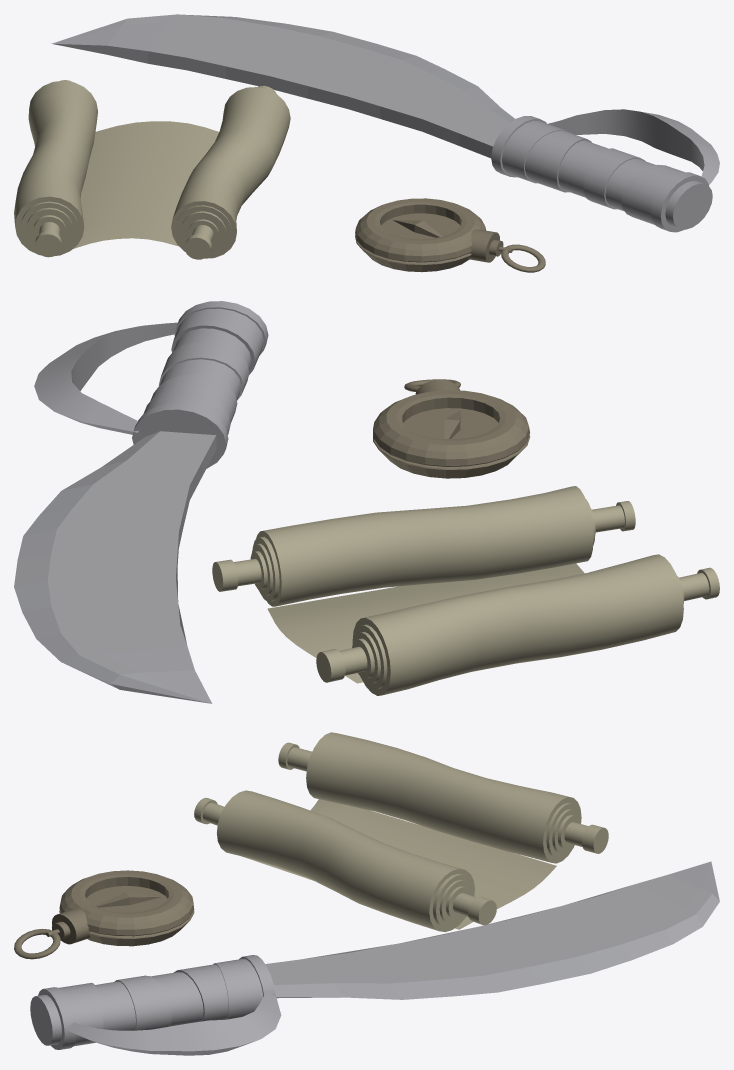
The model's file is 3propExpo.fbx.
3 views of the same model, one above another, from view 1: azimuth 30°, elevation 25°; view 2: azimuth 150°, elevation 25°; view 3: azimuth 270°, elevation 25° (orthographic). The views are drawn at different scales.
Visible parts, largest first — view 1: swordBlade, swordHandle, scrollPaper, scrollRoll2, scrollRoll1, compassBody, handleCurveSweep, compassTop, compassLoop, compassNeedle; view 2: swordBlade, scrollRoll1, scrollRoll2, swordHandle, compassBody, scrollPaper, handleCurveSweep; view 3: swordBlade, scrollRoll1, scrollRoll2, swordHandle, scrollPaper, compassBody, handleCurveSweep, compassTop, compassLoop, compassNeedle.
Part boxes in pixels (<box>): swordBlade: <box>51,14,515,158</box>; swordHandle: <box>491,116,712,232</box>; scrollPaper: <box>73,121,218,248</box>; scrollRoll2: <box>171,85,290,259</box>; scrollRoll1: <box>14,80,97,257</box>; compassBody: <box>355,198,485,272</box>; handleCurveSweep: <box>548,109,719,184</box>; compassTop: <box>468,229,512,262</box>; compassLoop: <box>501,244,545,272</box>; compassNeedle: <box>392,219,442,237</box>; swordBlade: <box>14,431,216,703</box>; scrollRoll1: <box>316,554,719,695</box>; scrollRoll2: <box>212,486,635,606</box>; swordHandle: <box>132,301,268,468</box>; compassBody: <box>373,390,530,478</box>; scrollPaper: <box>267,563,584,683</box>; handleCurveSweep: <box>34,322,178,434</box>; swordBlade: <box>265,861,719,999</box>; scrollRoll1: <box>278,732,608,863</box>; scrollRoll2: <box>194,790,496,931</box>; swordHandle: <box>30,955,275,1049</box>; scrollPaper: <box>242,799,556,929</box>; compassBody: <box>59,870,194,946</box>; handleCurveSweep: <box>62,991,281,1055</box>; compassTop: <box>46,909,90,944</box>; compassLoop: <box>14,929,60,959</box>; compassNeedle: <box>95,892,161,907</box>.
Size of the model in its own units: 16.65 by 1.57 by 16.3.
